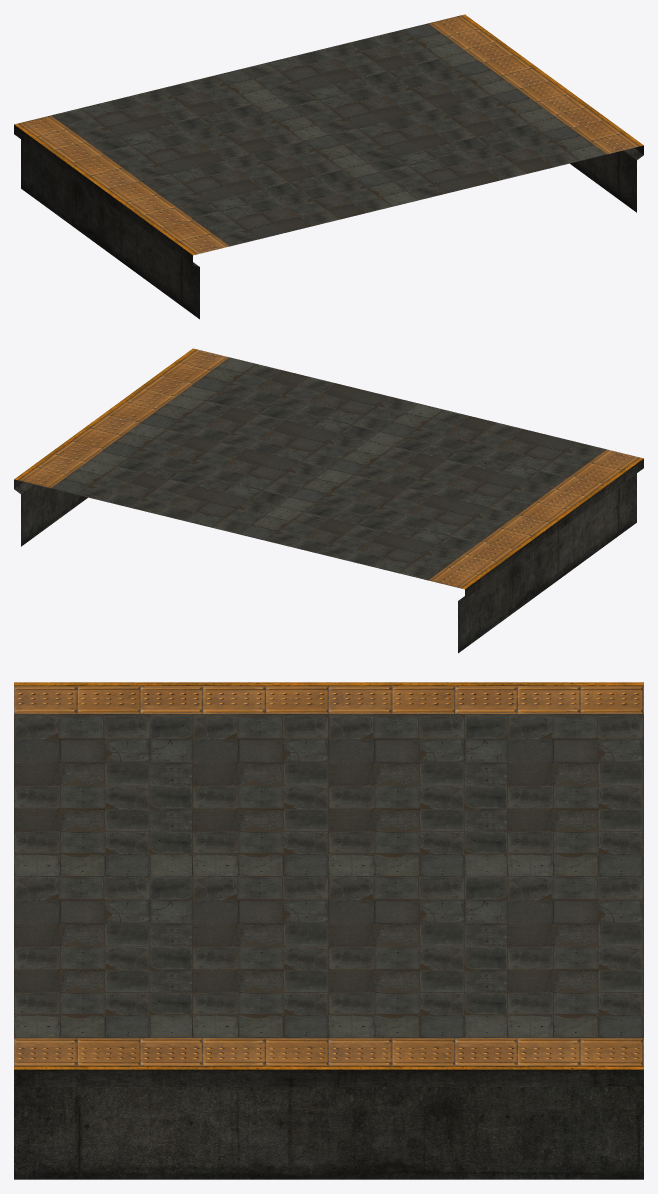
File: PlatformFloorBigA.fbx
The picture shows the model from 3 angles, top to bottom: view 1: azimuth 30°, elevation 25°; view 2: azimuth 150°, elevation 25°; view 3: azimuth 270°, elevation 25°; orthographic projection. The views are drawn at different scales.
Visible parts, largest first — view 1: PlatformFloorBigA; view 2: PlatformFloorBigA; view 3: PlatformFloorBigA.
Part boxes in pixels (box(x1,y1,x2,y2)): PlatformFloorBigA: box(14, 14, 643, 319); PlatformFloorBigA: box(14, 348, 643, 653); PlatformFloorBigA: box(14, 682, 643, 1179).
Size of the model in its own units: 1092 by 152 by 751.
